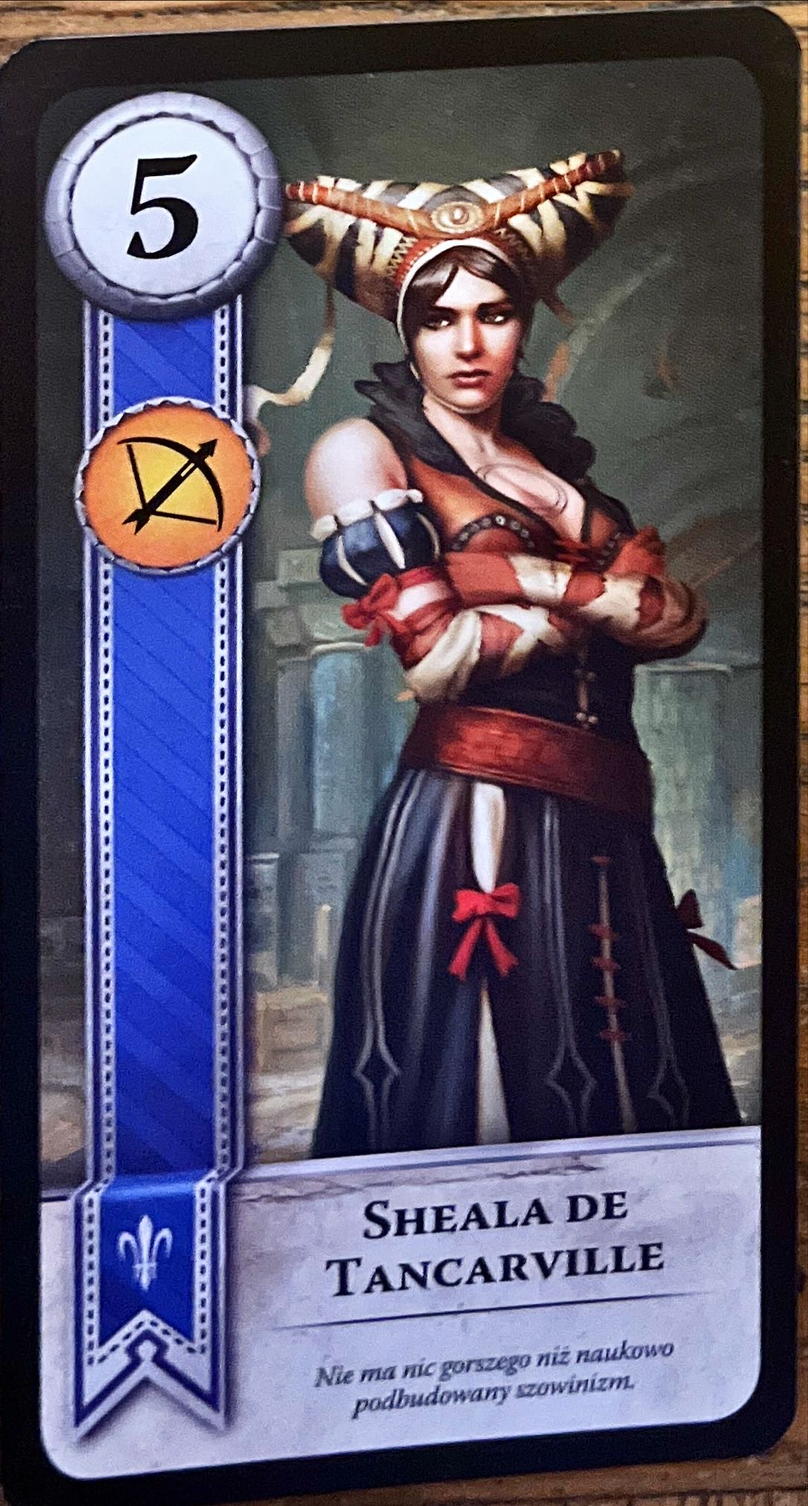5: (40, 87, 282, 324)
lucznik: (73, 394, 264, 577)
